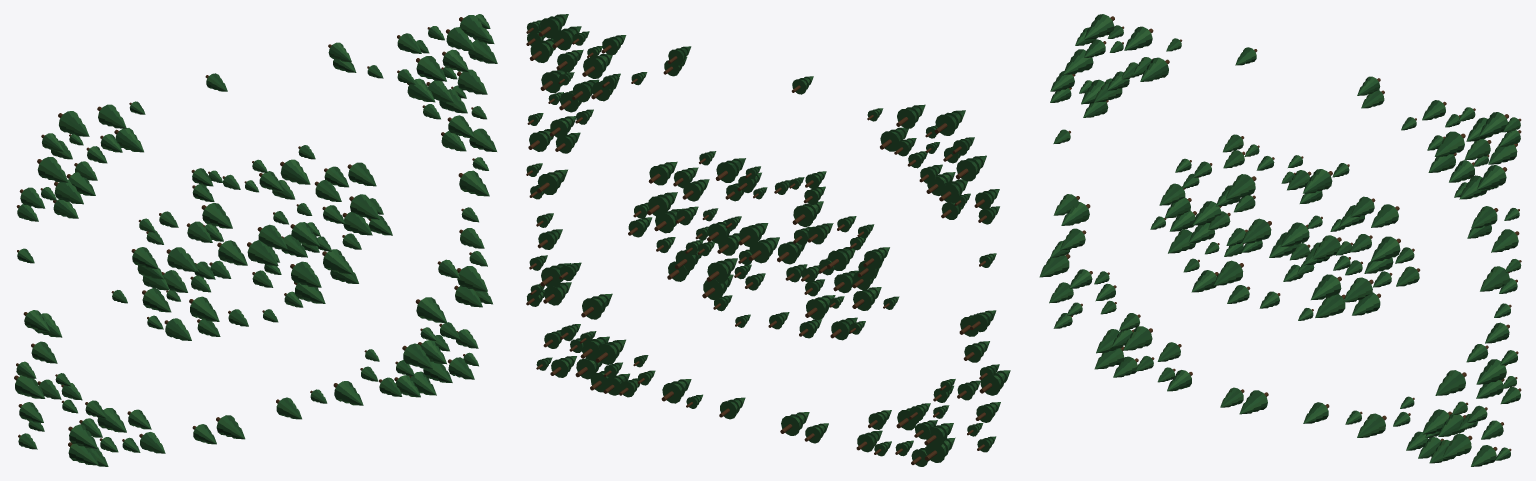
Rendered from forest_clusters.obj.
3 renders of one model, left to right at view 1: azimuth 30°, elevation 25°; view 2: azimuth 150°, elevation 25°; view 3: azimuth 330°, elevation 25°, orthographic.
Parts seen in each view (by area): view 1: forest_clusters; view 2: forest_clusters; view 3: forest_clusters.
Part boxes in pixels (box(x1,y1,x2,y2)): forest_clusters: box(14, 14, 497, 466); forest_clusters: box(526, 14, 1010, 466); forest_clusters: box(1039, 14, 1521, 466).
Size of the model in its own units: 76.59 by 56.49 by 8.74.
